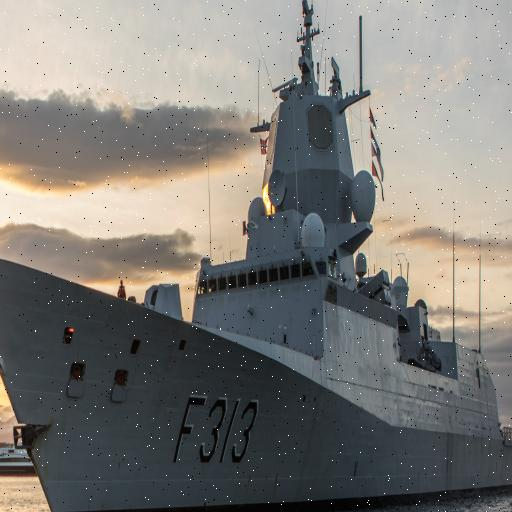Fragata: (1, 1, 356, 512)
